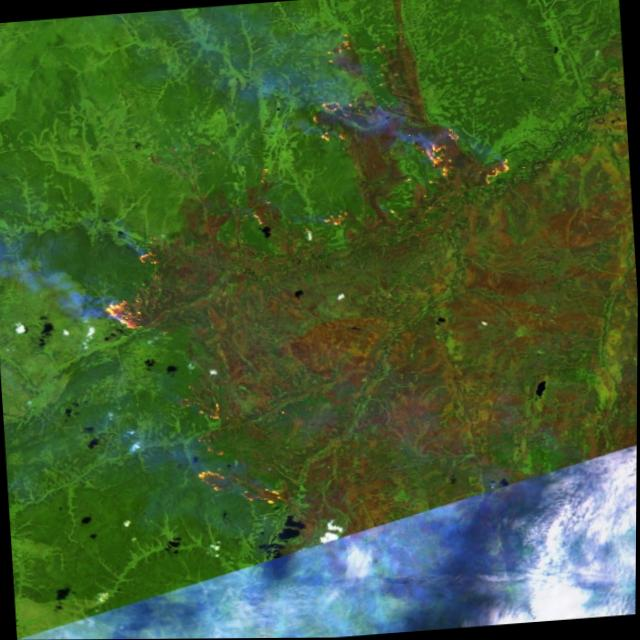fire: (415, 118, 520, 190), (185, 459, 291, 515), (303, 89, 396, 148), (96, 289, 162, 340), (314, 30, 367, 73), (183, 393, 240, 431), (304, 202, 346, 235), (131, 241, 171, 272)
